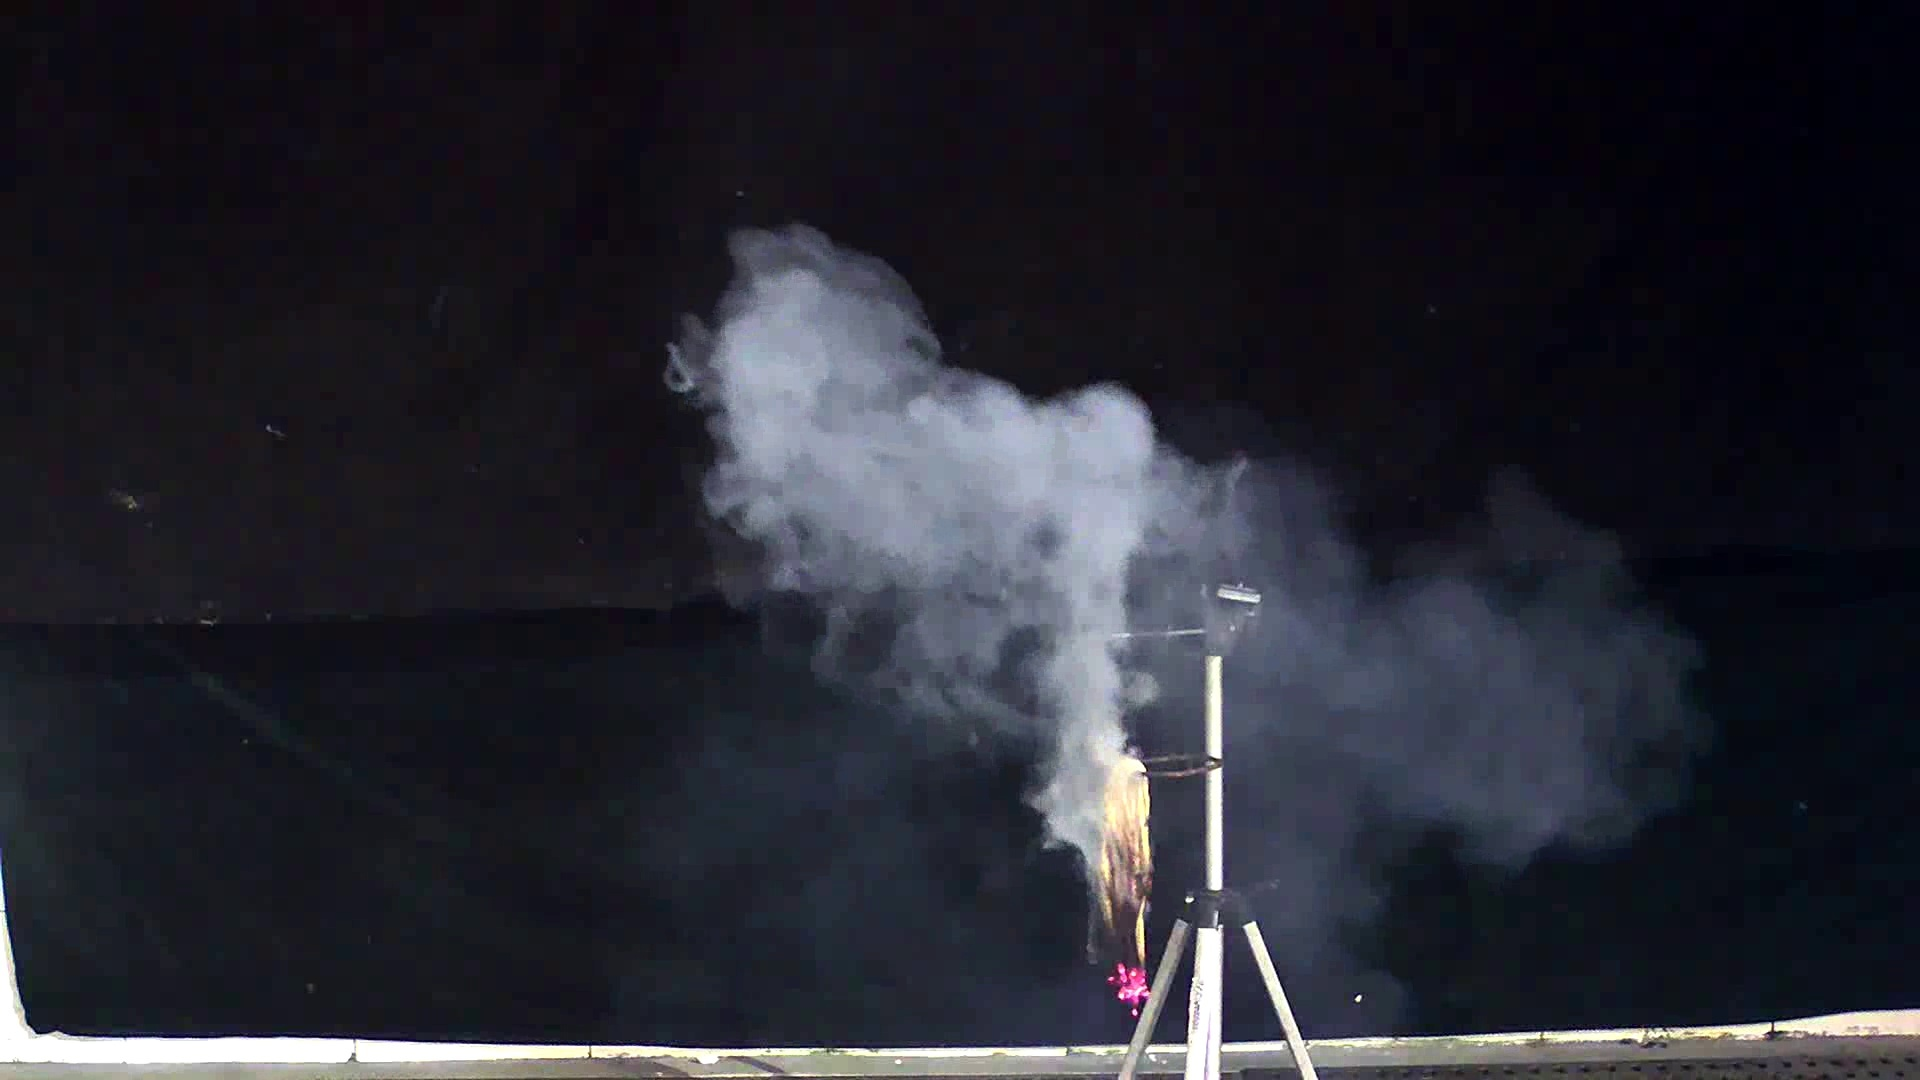smoke: (654, 232, 1727, 913)
